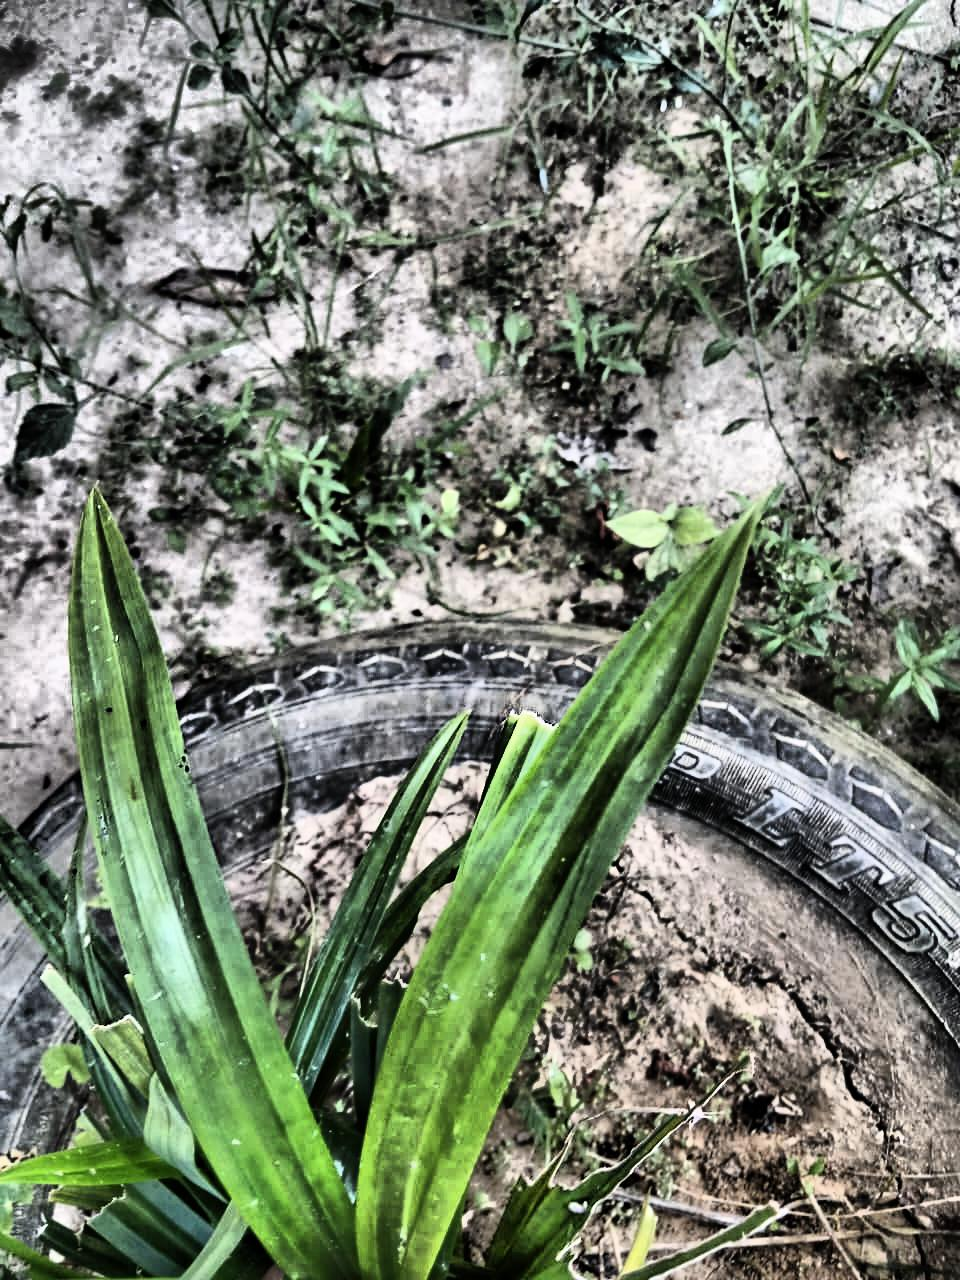daun pandan: (0, 490, 760, 1279)
